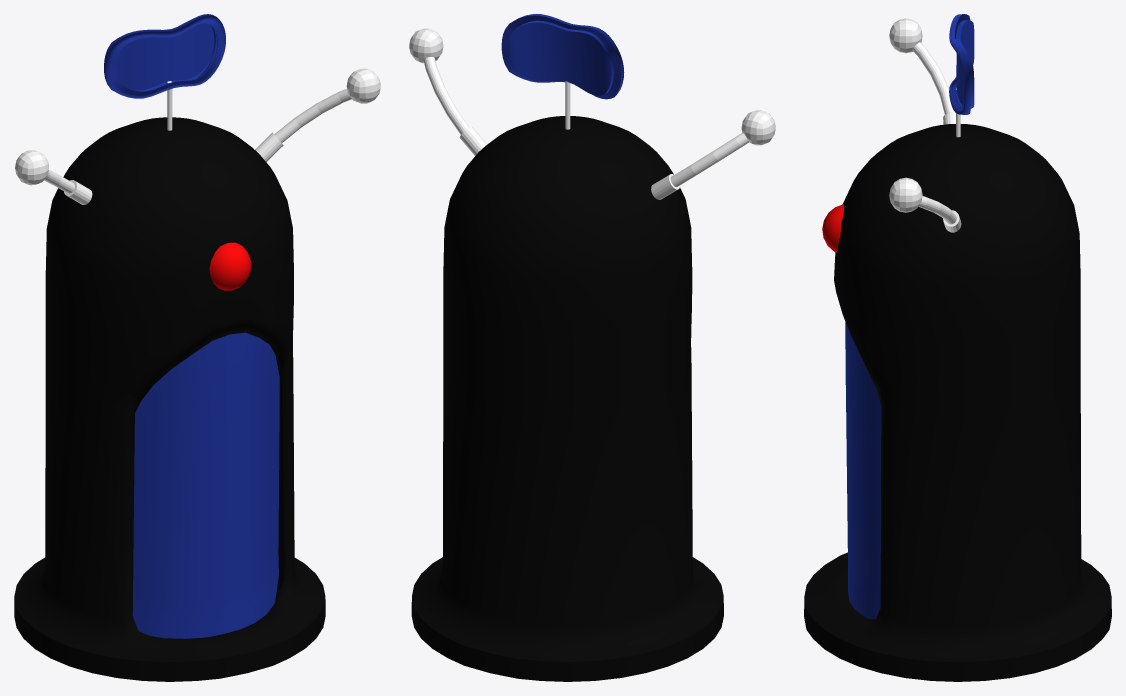
File: Upgradetube test 2.fbx
3 renders of one model, left to right at view 1: azimuth 30°, elevation 25°; view 2: azimuth 150°, elevation 25°; view 3: azimuth 270°, elevation 25°, orthographic.
Parts seen in each view (by area): view 1: Capsule002, right Door, Door Right, Goggles, eares, Sphere001; view 2: Capsule002, Goggles, eares; view 3: Capsule002, Door Right, eares, Goggles, Sphere001.
Boxes of the visible parts, x1,y1,x2,y2 form: Capsule002: (14, 117, 325, 681); right Door: (132, 336, 226, 638); Door Right: (223, 332, 279, 633); Goggles: (104, 14, 225, 98); eares: (15, 68, 380, 204); Sphere001: (209, 242, 251, 290); Capsule002: (411, 116, 723, 681); Goggles: (501, 14, 624, 99); eares: (409, 28, 775, 199); Capsule002: (804, 124, 1111, 681); Door Right: (845, 322, 881, 619); eares: (889, 18, 961, 232); Goggles: (949, 14, 974, 114); Sphere001: (822, 204, 843, 252).
Size of the model in its own units: 261 by 410 by 195.
